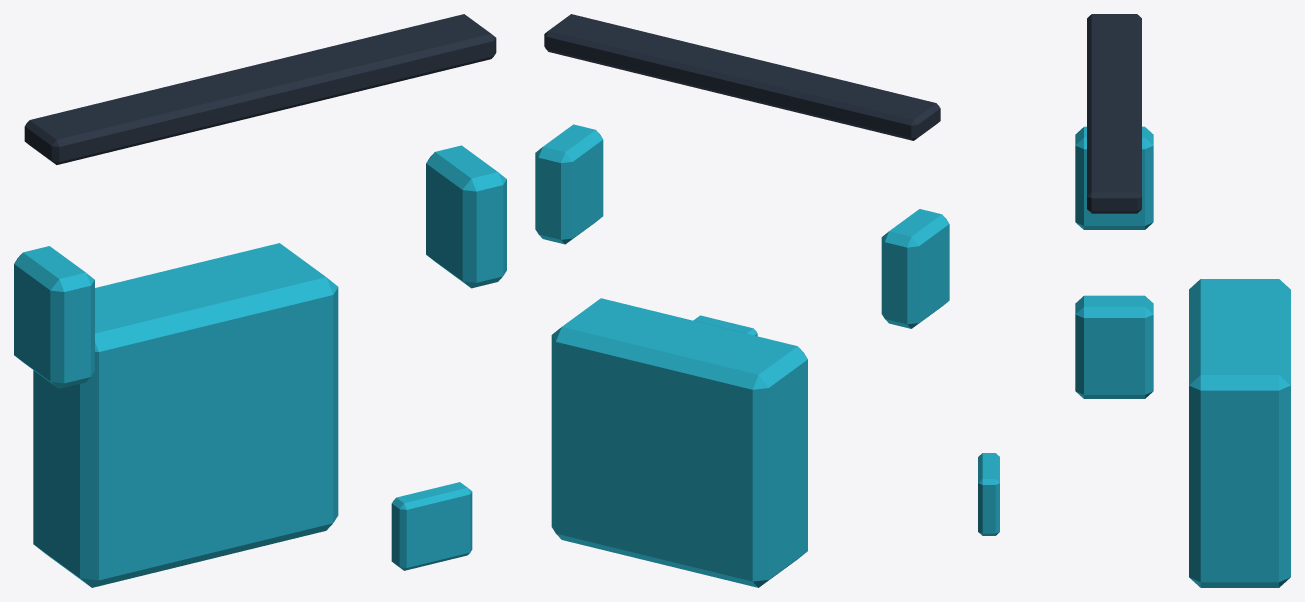
File: founder.glb
The picture shows the model from 3 angles, left to right: view 1: azimuth 30°, elevation 25°; view 2: azimuth 150°, elevation 25°; view 3: azimuth 270°, elevation 25°; orthographic projection. The views are drawn at different scales.
Parts seen in each view (by area): view 1: founder_torso, founder_head; view 2: founder_torso, founder_head; view 3: founder_torso, founder_head.
Part boxes in pixels (x1,y1,x2,y2): founder_torso: (33, 243, 472, 587); founder_head: (14, 14, 506, 388); founder_torso: (551, 298, 807, 587); founder_head: (535, 14, 949, 328); founder_torso: (978, 279, 1290, 587); founder_head: (1075, 14, 1153, 398).
Bounding box in the file's own units: 0.565 × 0.615 × 0.399.
